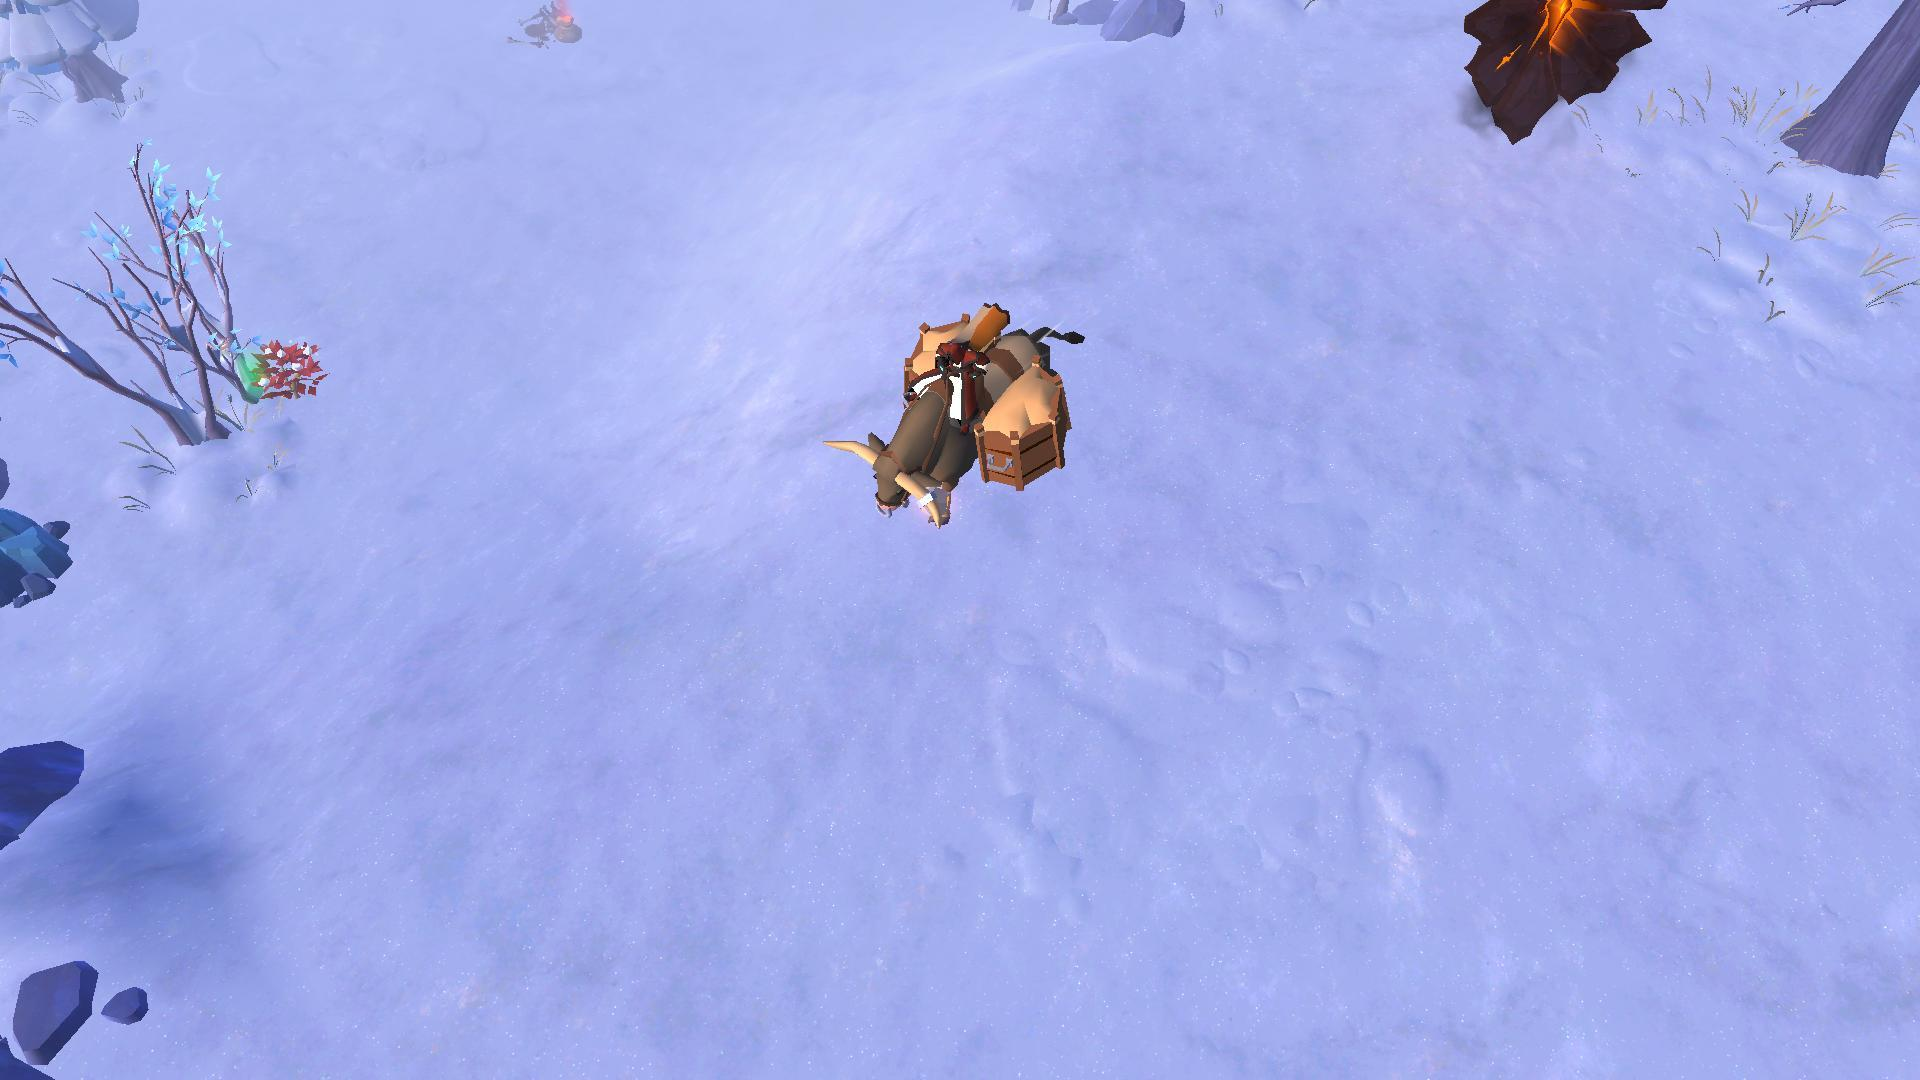fiber_t5: (249, 326, 332, 401)
rock_t4: (0, 500, 79, 600)
